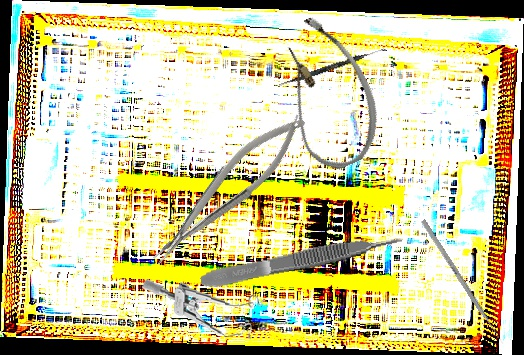Cannula: (255, 7, 397, 179)
Needle Holder: (137, 104, 318, 273)
Pusher: (420, 219, 506, 346)
Spatula Surgical: (278, 44, 387, 90)
Speculum: (138, 278, 268, 342)
Tissue Forceps: (198, 230, 405, 292)
